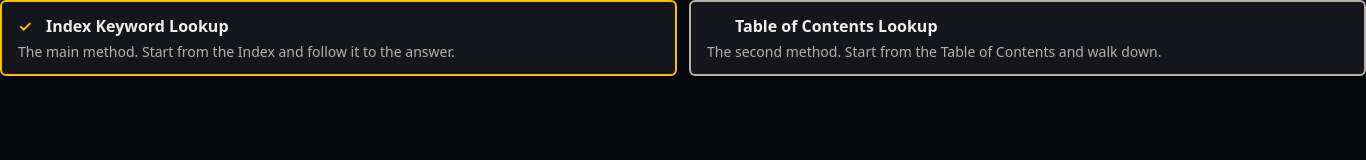
it: MethodSelector › selects on click and keeps the selected radio as the only tab stop
Click the radio button that starts with "Table of Contents Lookup".
click(1028, 38)  # box [689,0,1365,76]
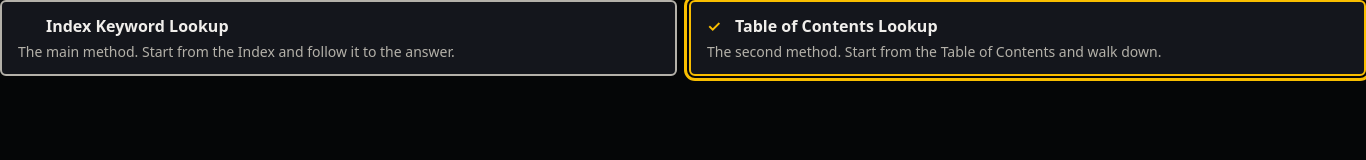
Result: the radio button that starts with "Table of Contents Lookup" is checked at [689,0,1365,76]
Result: the radio button that starts with "Table of Contents Lookup" has attribute tabindex="0" at [689,0,1365,76]
Result: the radio button that starts with "Index Keyword Lookup" has attribute tabindex="-1" at [0,0,677,76]
